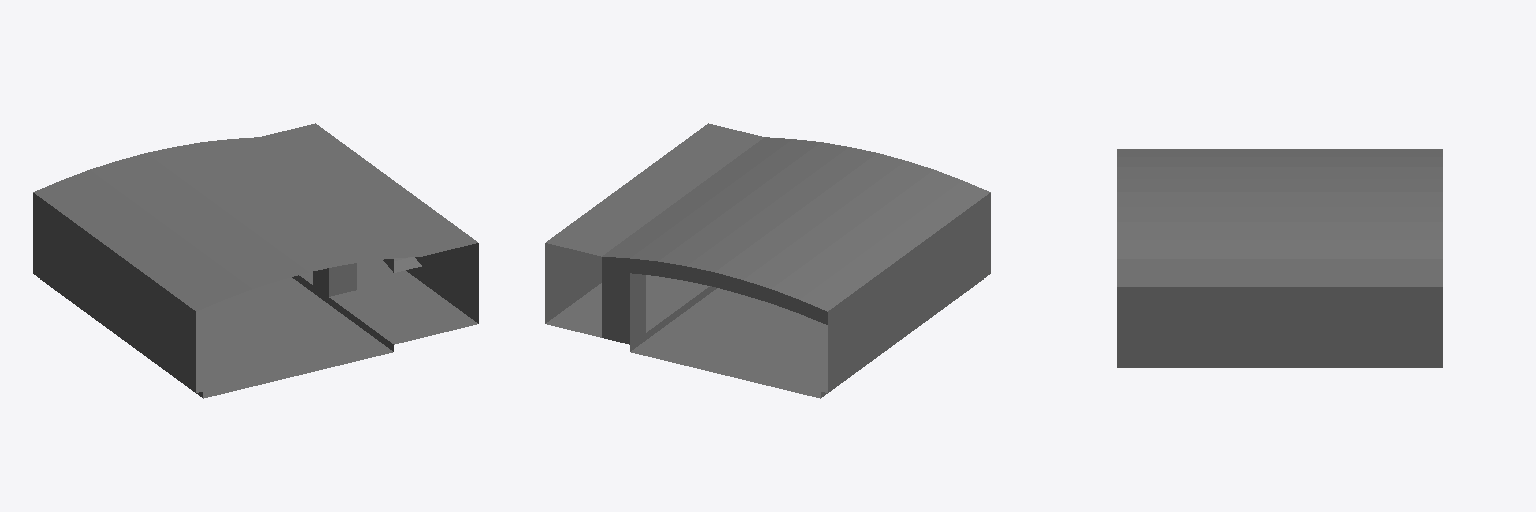
The model's file is catacomb_str_1.obj.
The picture shows the model from 3 angles: view 1: azimuth 30°, elevation 25°; view 2: azimuth 150°, elevation 25°; view 3: azimuth 270°, elevation 25°; orthographic projection.
Visible parts, largest first — view 1: catacomb_str_1, catacomb_str_1 main_pillar_2; view 2: catacomb_str_1, catacomb_str_1 main_pillar_1; view 3: catacomb_str_1.
Boxes of the visible parts, <box> form: catacomb_str_1: <box>33,123,478,398</box>; catacomb_str_1 main_pillar_2: <box>313,263,356,296</box>; catacomb_str_1: <box>545,123,990,398</box>; catacomb_str_1 main_pillar_1: <box>602,257,827,344</box>; catacomb_str_1: <box>1117,149,1442,367</box>.
Size of the model in its own units: 10 by 3.4 by 10.